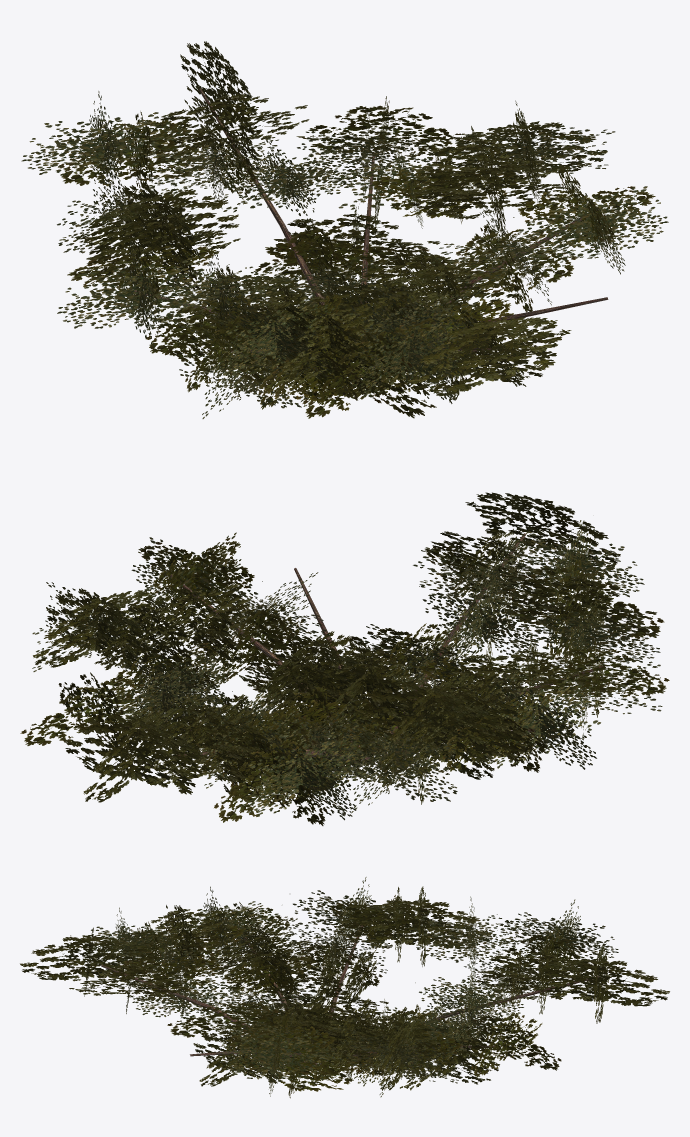
The model's file is bush_3d_04_lod1.glb.
3 views of the same model, one above another, from view 1: azimuth 30°, elevation 25°; view 2: azimuth 150°, elevation 25°; view 3: azimuth 270°, elevation 25° (orthographic). The views are drawn at different scales.
Visible parts, largest first — view 1: foliage_cards, wood_geometry; view 2: foliage_cards, wood_geometry; view 3: foliage_cards, wood_geometry.
Boxes of the visible parts, x1=… form: foliage_cards: x1=21, y1=41, x2=668, y2=418; wood_geometry: x1=131, y1=88, x2=608, y2=367; foliage_cards: x1=20, y1=492, x2=669, y2=825; wood_geometry: x1=124, y1=533, x2=604, y2=764; foliage_cards: x1=20, y1=877, x2=669, y2=1098; wood_geometry: x1=101, y1=925, x2=599, y2=1067.
Size of the model in its own units: 2.74 by 0.816 by 3.7.
Materials: 2 (2 with a texture image).
